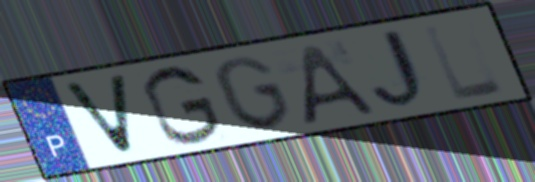A: (299, 41, 379, 128)
G: (139, 63, 225, 148), (211, 52, 296, 132)
J: (369, 25, 438, 114)
L: (419, 21, 510, 104)
V: (57, 72, 139, 158)
